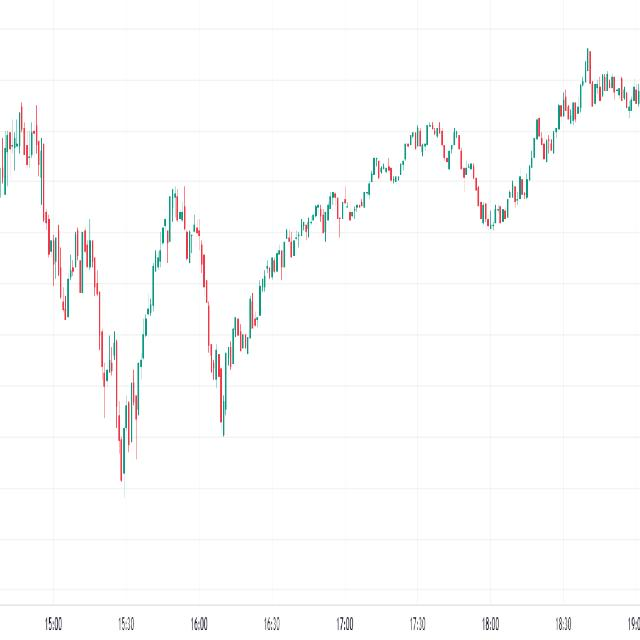Head-Shoulders: (138, 153, 216, 360)
